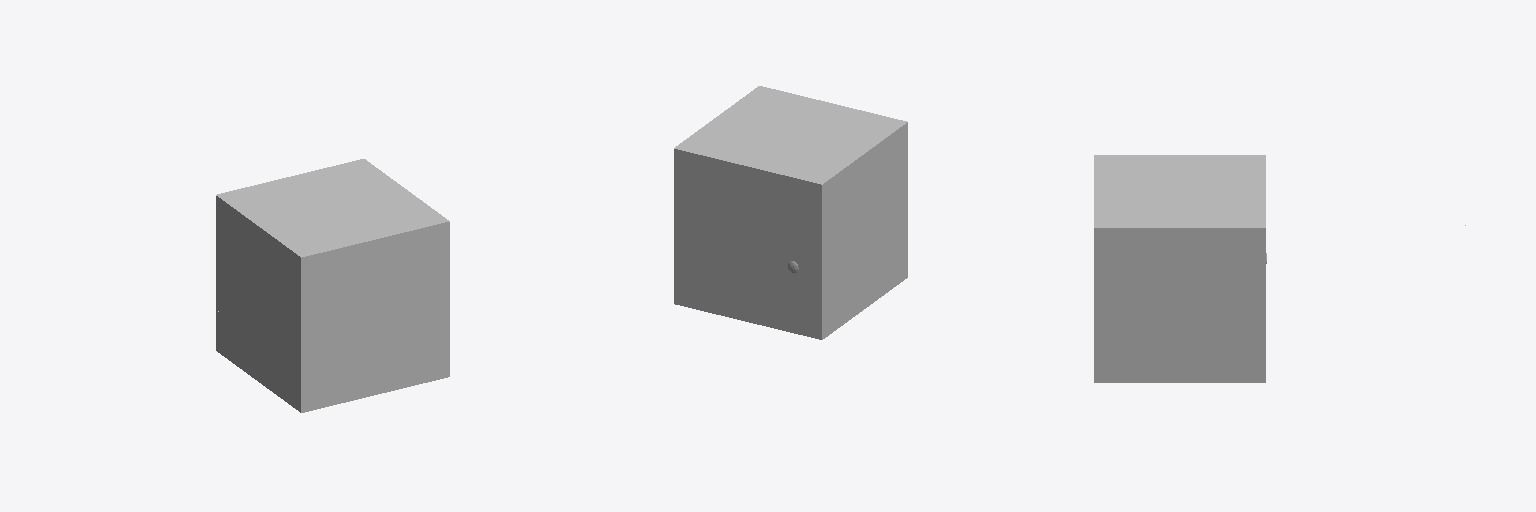
Rendered from 3tree2stone_wrapped.obj.
The picture shows the model from 3 angles: view 1: azimuth 30°, elevation 25°; view 2: azimuth 150°, elevation 25°; view 3: azimuth 270°, elevation 25°; orthographic projection.
Visible parts, largest first — view 1: Cube; view 2: Cube; view 3: Cube.
Part boxes in pixels (left/top/right/bottom): Cube: left=216, top=159, right=449, bottom=412; Cube: left=674, top=86, right=907, bottom=339; Cube: left=1094, top=155, right=1265, bottom=382.
Size of the model in its own units: 13.19 by 9.68 by 20.92.